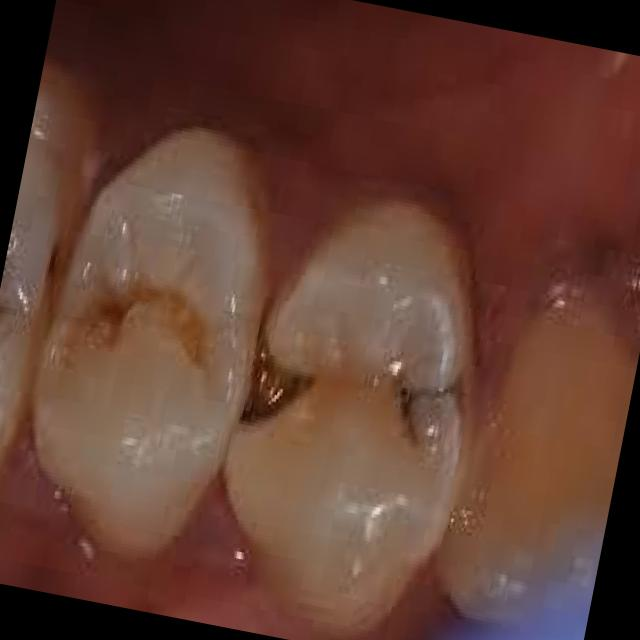Caries: (399, 388, 416, 420)
Cavity: (67, 285, 207, 362), (239, 333, 317, 426)
Tooth: (224, 197, 475, 625), (31, 129, 266, 559), (437, 273, 638, 630)
